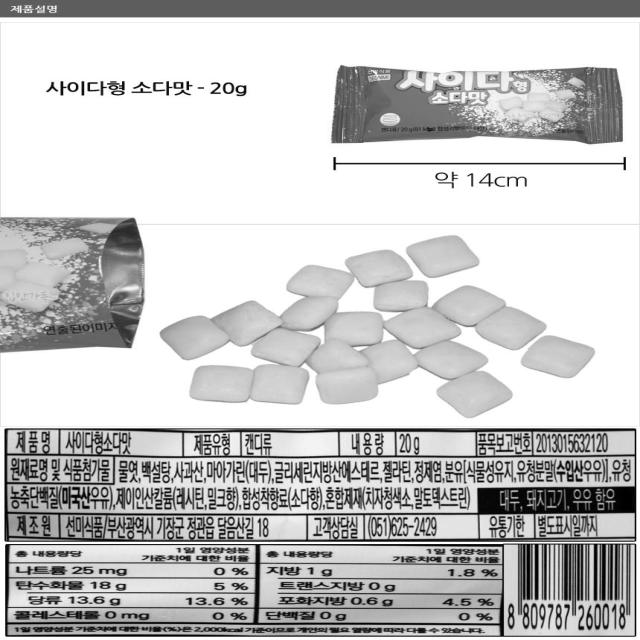Nutrition Label: (7, 542, 506, 638)
